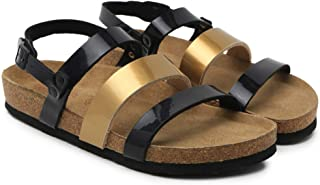shoes: (1, 1, 318, 177)
